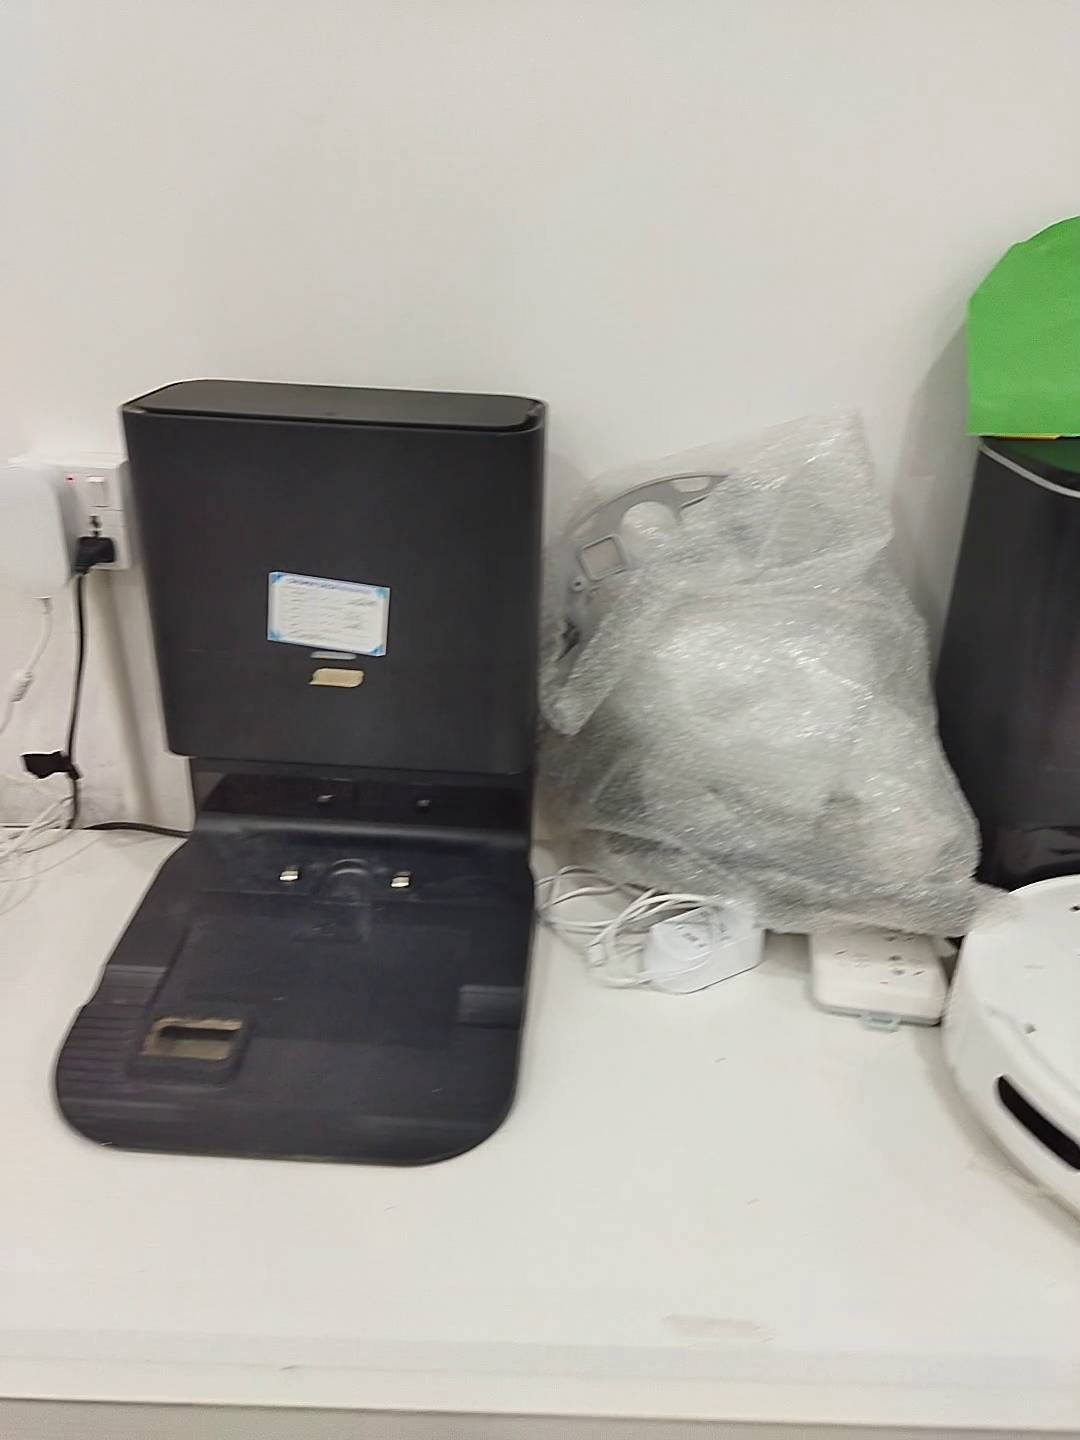dust collecting barrel: (52, 376, 551, 1167)
